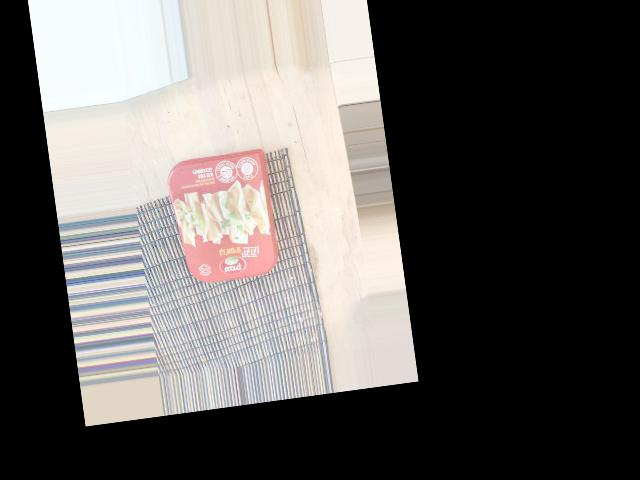cheese: (147, 232, 289, 337)
